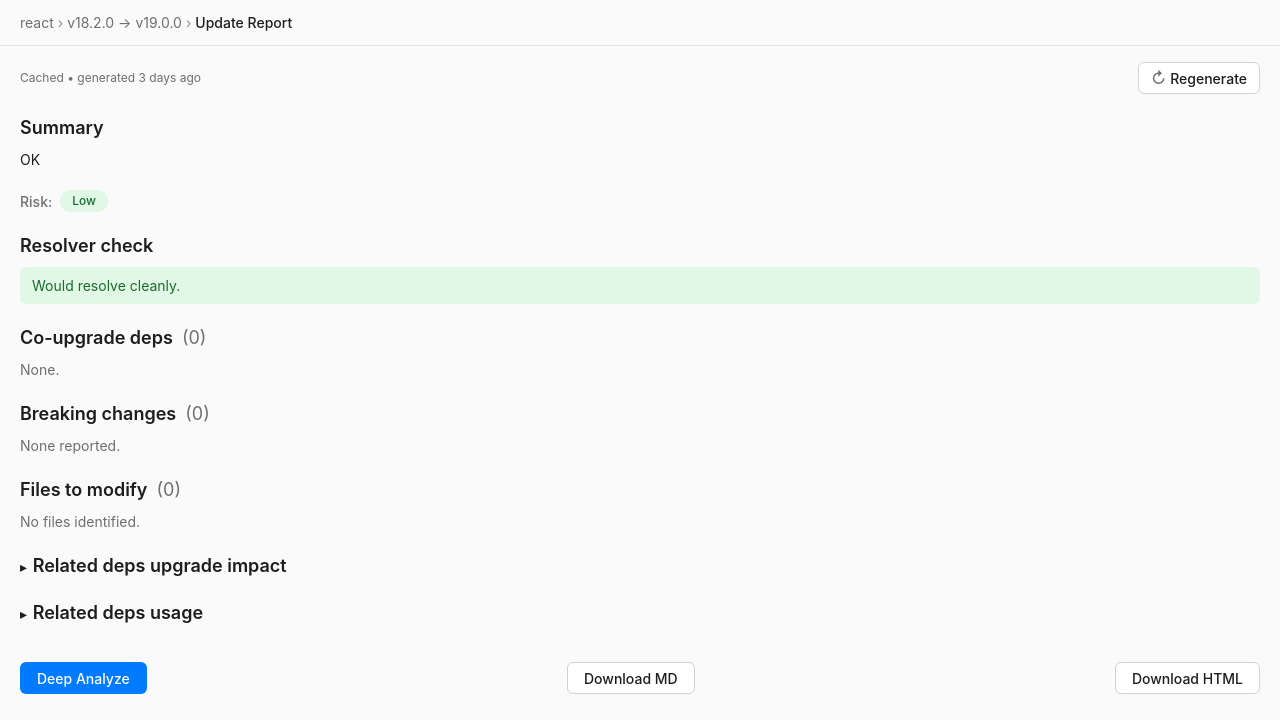
Test: First-Deep-Analyze confirmation prompt › shows when showDeepAnalyzeWarning is true and the user clicks Deep Analyze
What coordinates should you click on to do the following:
click the button with test id "deep-analyze"
I would click on:
 (83, 678)
Its box is [20,662,147,694].
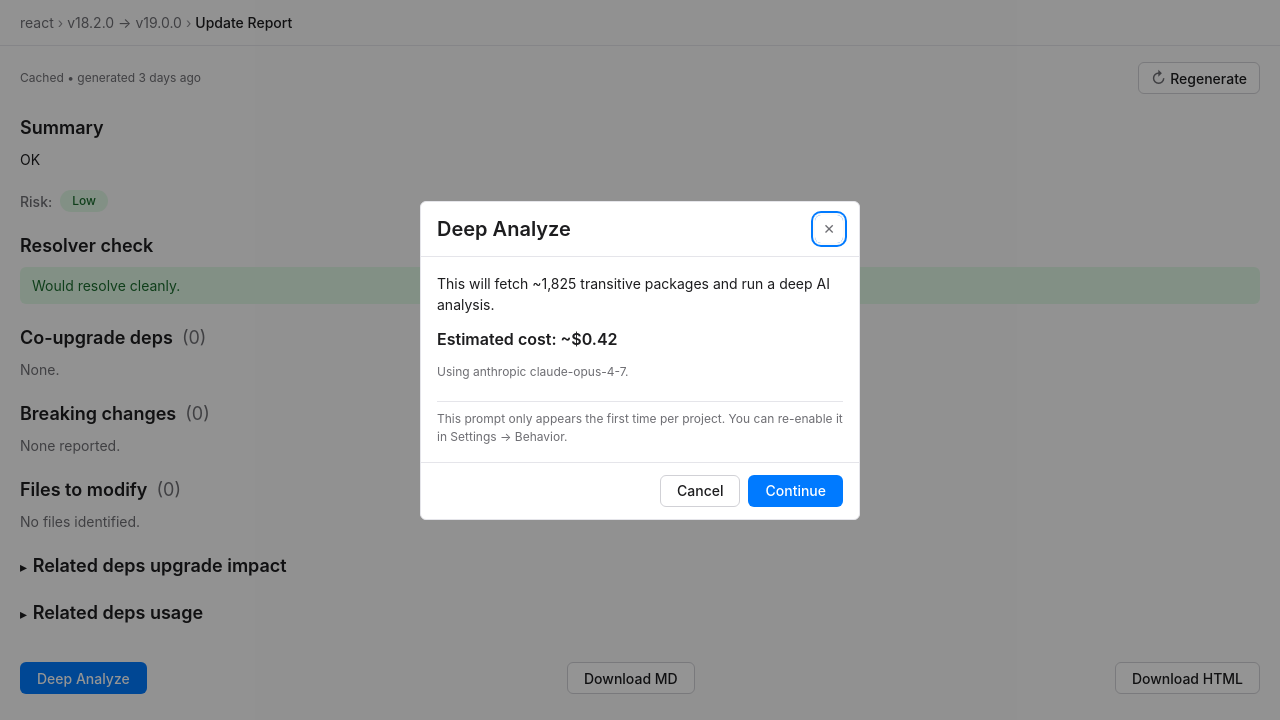
Result: the button with test id "deep-prompt-continue" is shown at [748,474,843,506]
Result: the text with test id "deep-prompt-cost" reads "Estimated cost: ~$0.42" at [437,328,618,348]
Result: the text "1,825" is shown at [542,274,576,292]
